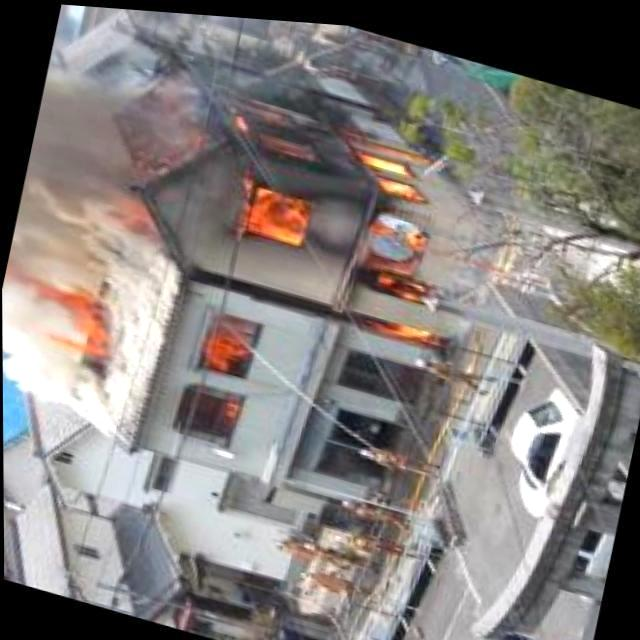fire: (166, 78, 484, 354), (2, 262, 118, 376), (183, 304, 269, 444)
